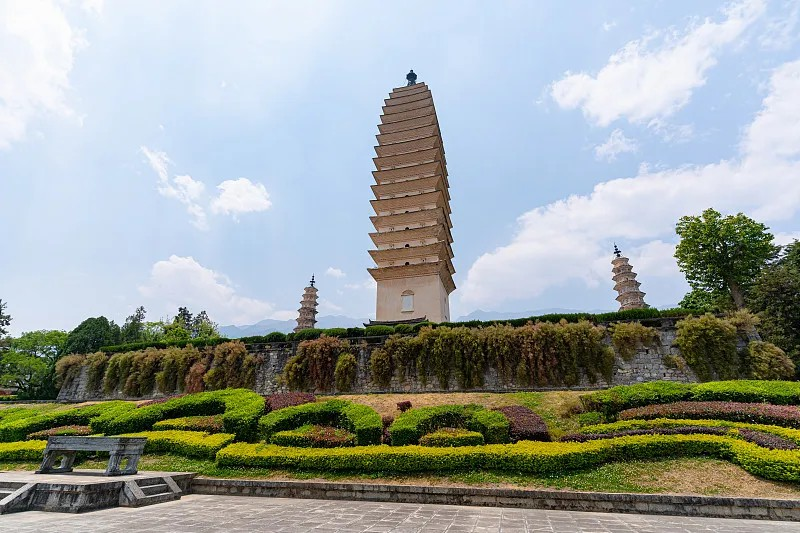ThreePagoda: (367, 69, 457, 323)
